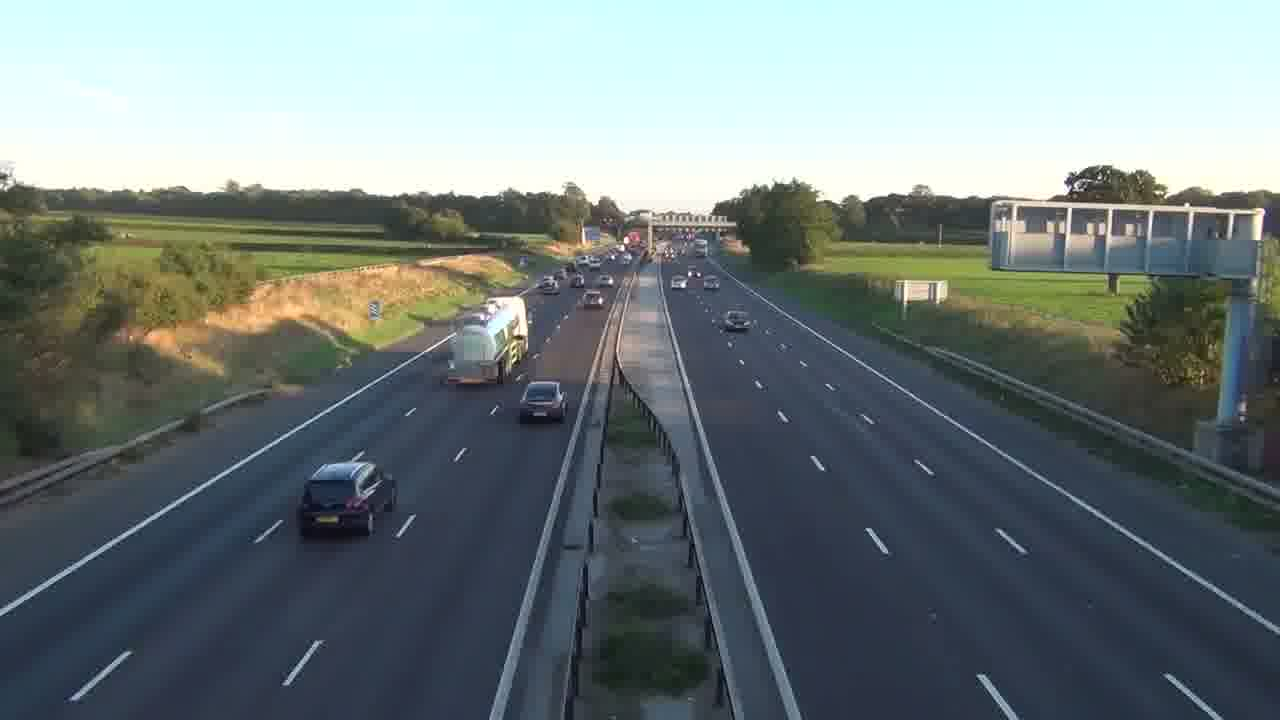car: (297, 460, 397, 538), (517, 380, 566, 422)
truck: (446, 306, 525, 386)
